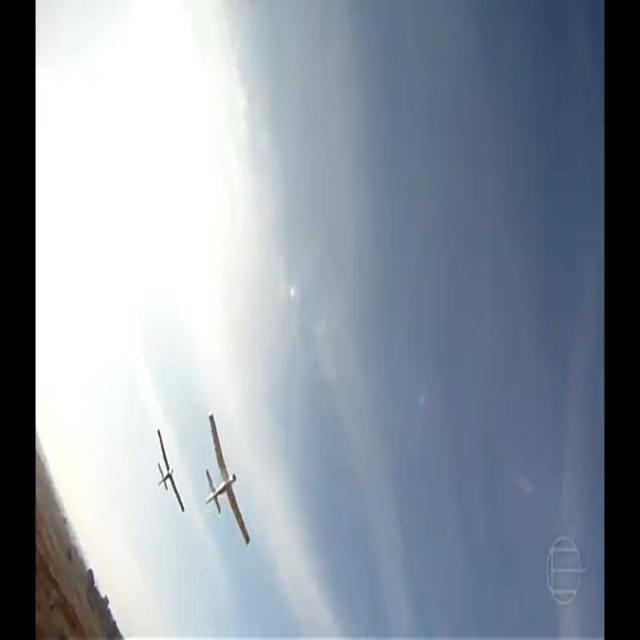iha: (206, 414, 251, 544), (156, 458, 185, 482)
